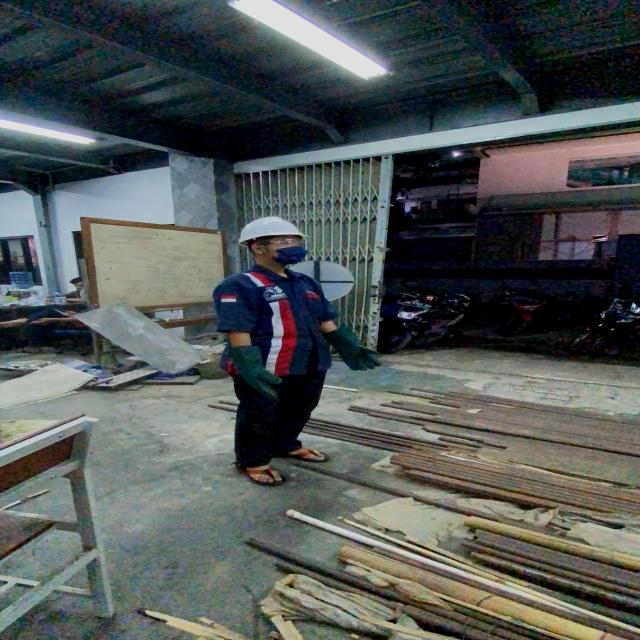face_mask: (267, 234, 309, 264)
glasses: (254, 236, 308, 247)
hand_glove: (231, 360, 288, 402), (332, 340, 386, 374)
head_helmet: (238, 216, 305, 244)
person: (211, 210, 388, 486)
